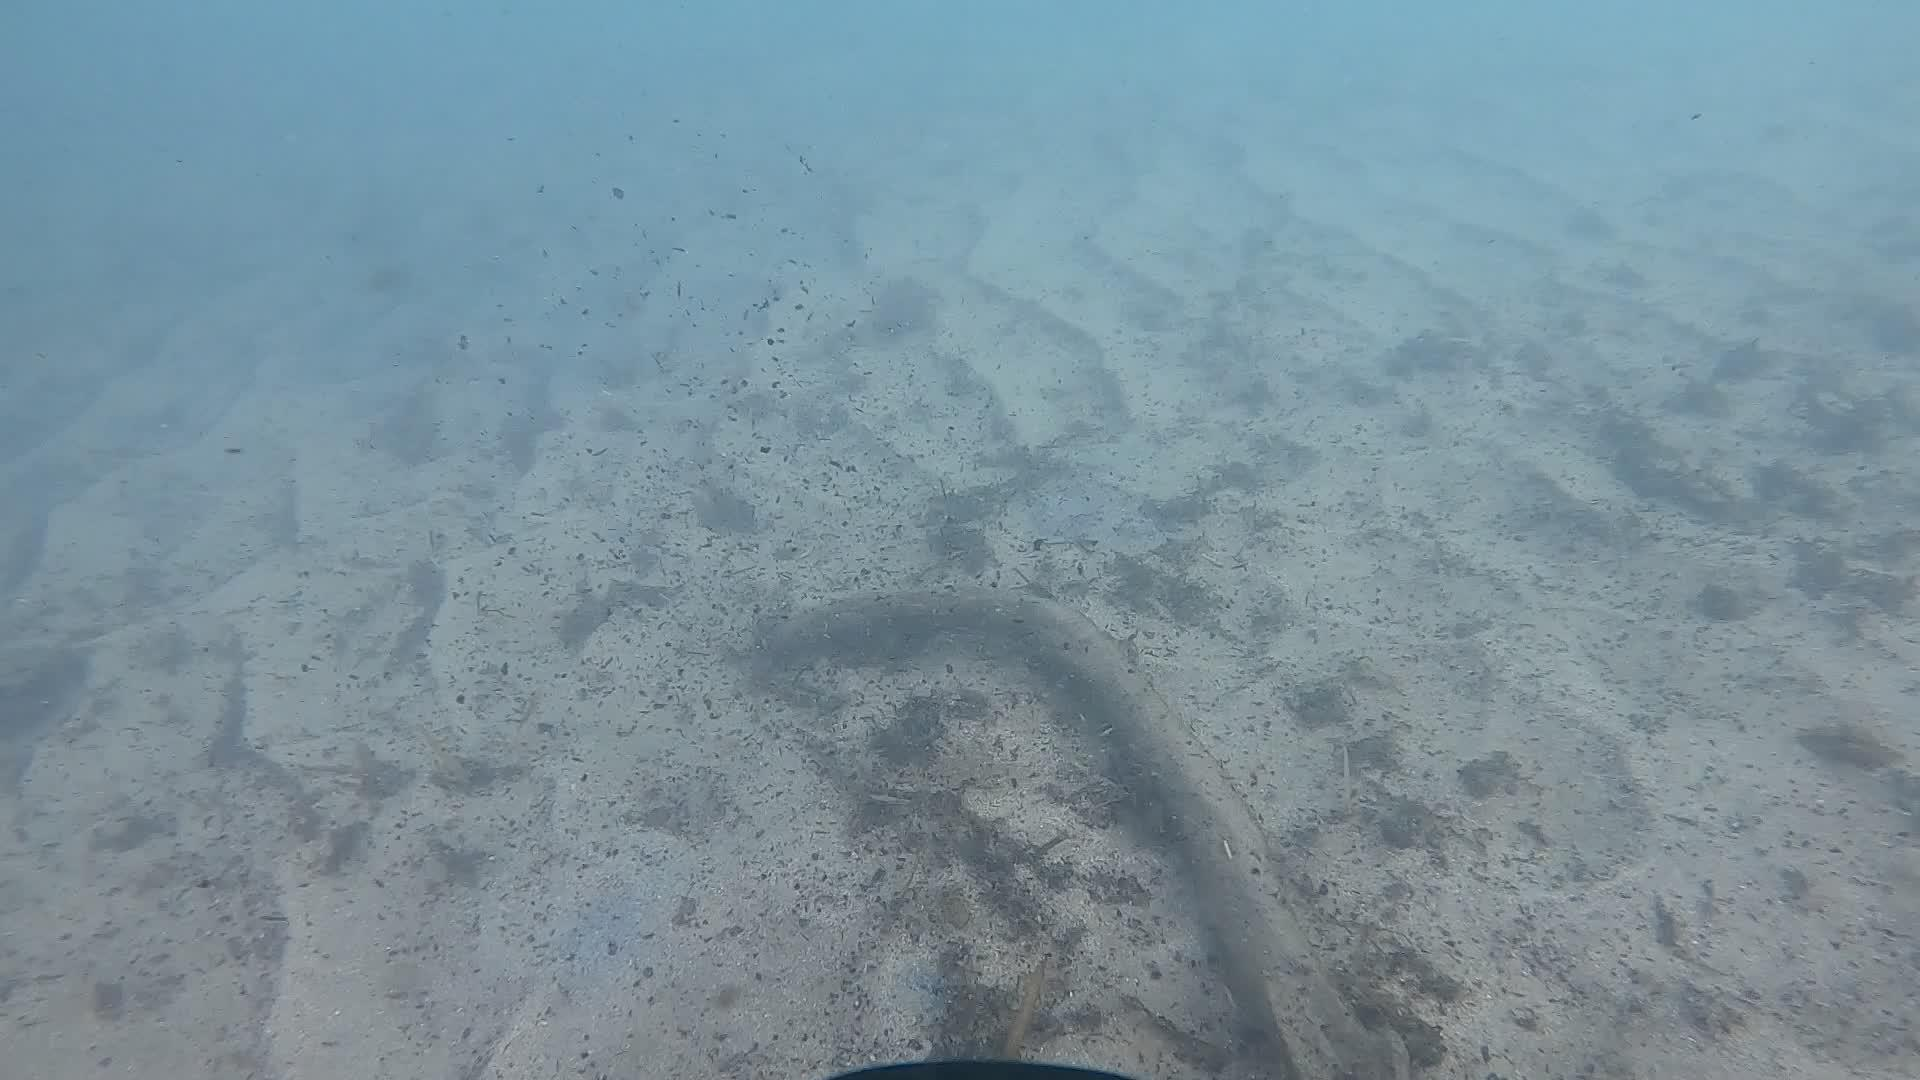wood: (764, 585, 1398, 1080)
